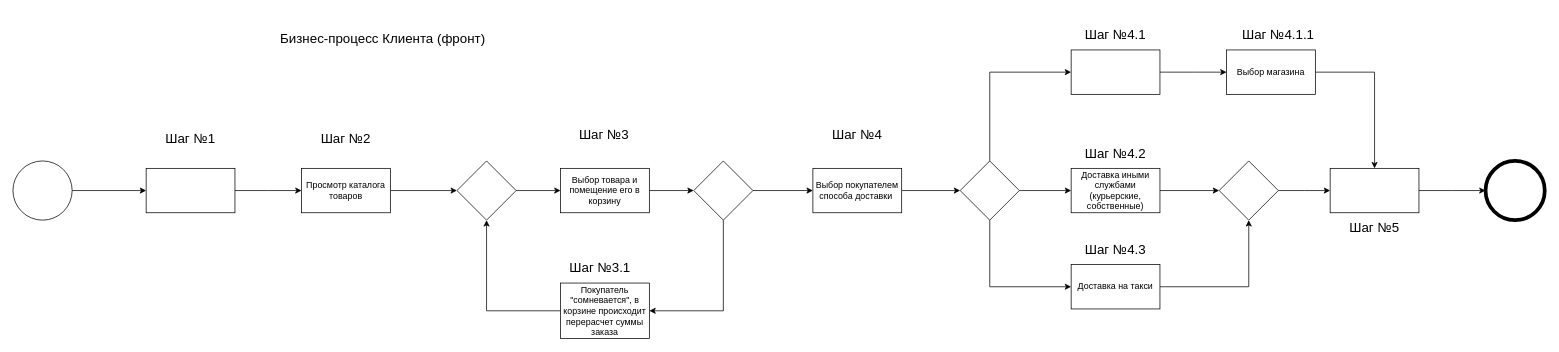
This 1559x352 diagram has some shape labels left out. Each missing label, with the box of its shape:
Клиент авторизовался на сайте: (145, 168, 235, 213)
Расчет оплаты заказа: (1329, 168, 1419, 213)
Самовывоз: (1070, 49, 1160, 94)
